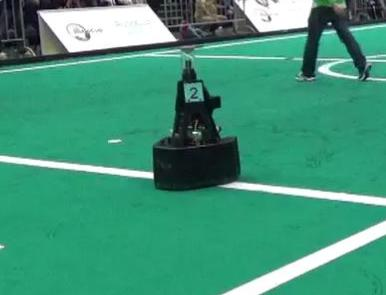robot: (146, 45, 246, 194)
